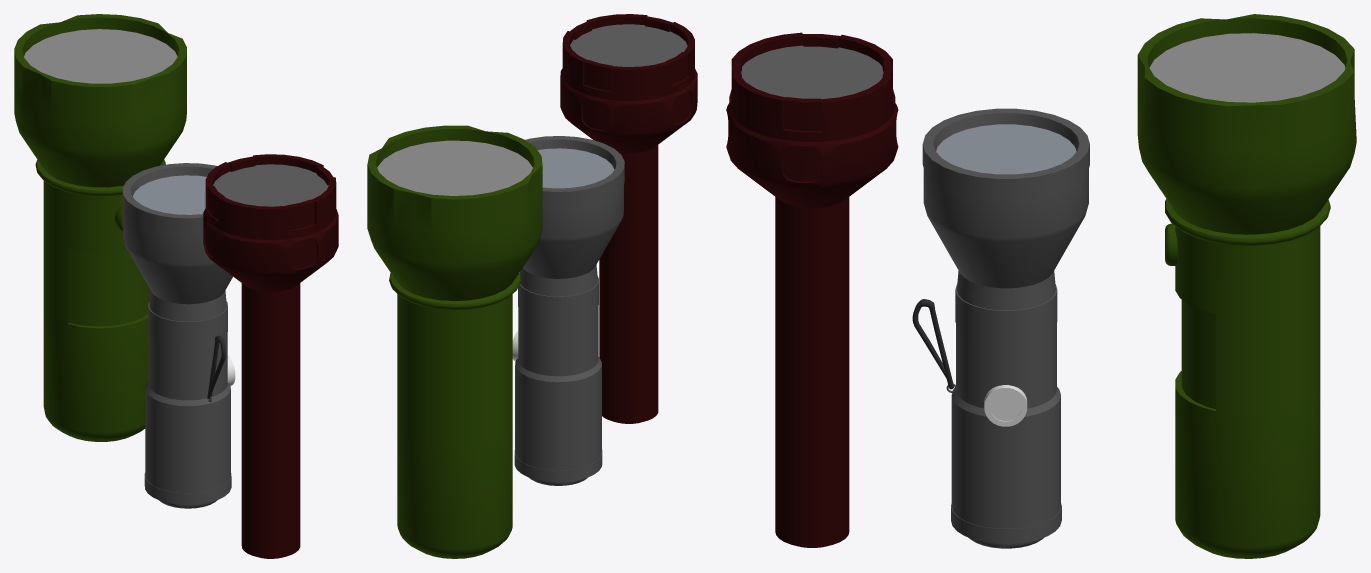
Rendered from torch.glb.
3 renders of one model, left to right at view 1: azimuth 30°, elevation 25°; view 2: azimuth 150°, elevation 25°; view 3: azimuth 270°, elevation 25°, orthographic. The views are drawn at different scales.
Visible parts, largest first — view 1: torch, Cylinder, flashlight.001, flashlight; view 2: torch, Cylinder, flashlight.001; view 3: torch, flashlight.001, Cylinder, flashlight.002, flashlight.
Part boxes in pixels (x1,y1,x2,y2): torch: (14, 14, 186, 441); Cylinder: (203, 154, 338, 558); flashlight.001: (122, 163, 232, 508); flashlight: (207, 335, 225, 399); torch: (367, 125, 542, 558); Cylinder: (560, 14, 697, 423); flashlight.001: (514, 136, 624, 485); torch: (1137, 14, 1356, 558); flashlight.001: (922, 108, 1089, 548); Cylinder: (726, 32, 898, 547); flashlight.002: (984, 385, 1027, 426); flashlight: (912, 299, 953, 389).
Size of the model in its own units: 0.0646 by 0.1551 by 0.186.
